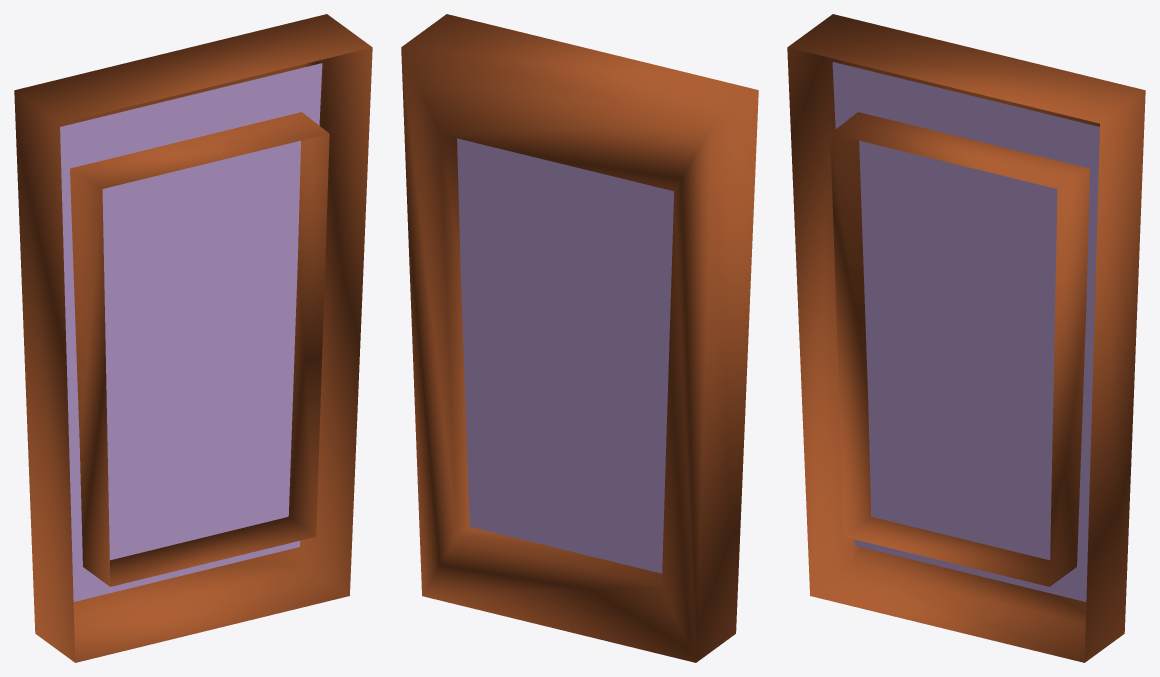
File: props_wall_painting_frame_6.fbx
3 views of the same model, side by side, from view 1: azimuth 30°, elevation 25°; view 2: azimuth 150°, elevation 25°; view 3: azimuth 330°, elevation 25° (orthographic).
Visible parts, largest first — view 1: Cube.106, Cube.001; view 2: Cube.106, Cube.001; view 3: Cube.106, Cube.001.
Boxes of the visible parts, box(x1,y1,x2,y2) form: Cube.106: box(14, 14, 372, 662); Cube.001: box(60, 63, 322, 601); Cube.106: box(401, 14, 758, 662); Cube.001: box(457, 138, 673, 573); Cube.106: box(787, 14, 1145, 662); Cube.001: box(832, 62, 1099, 601).
Bounding box in the file's own units: 0.8233 × 0.2081 × 1.38.
